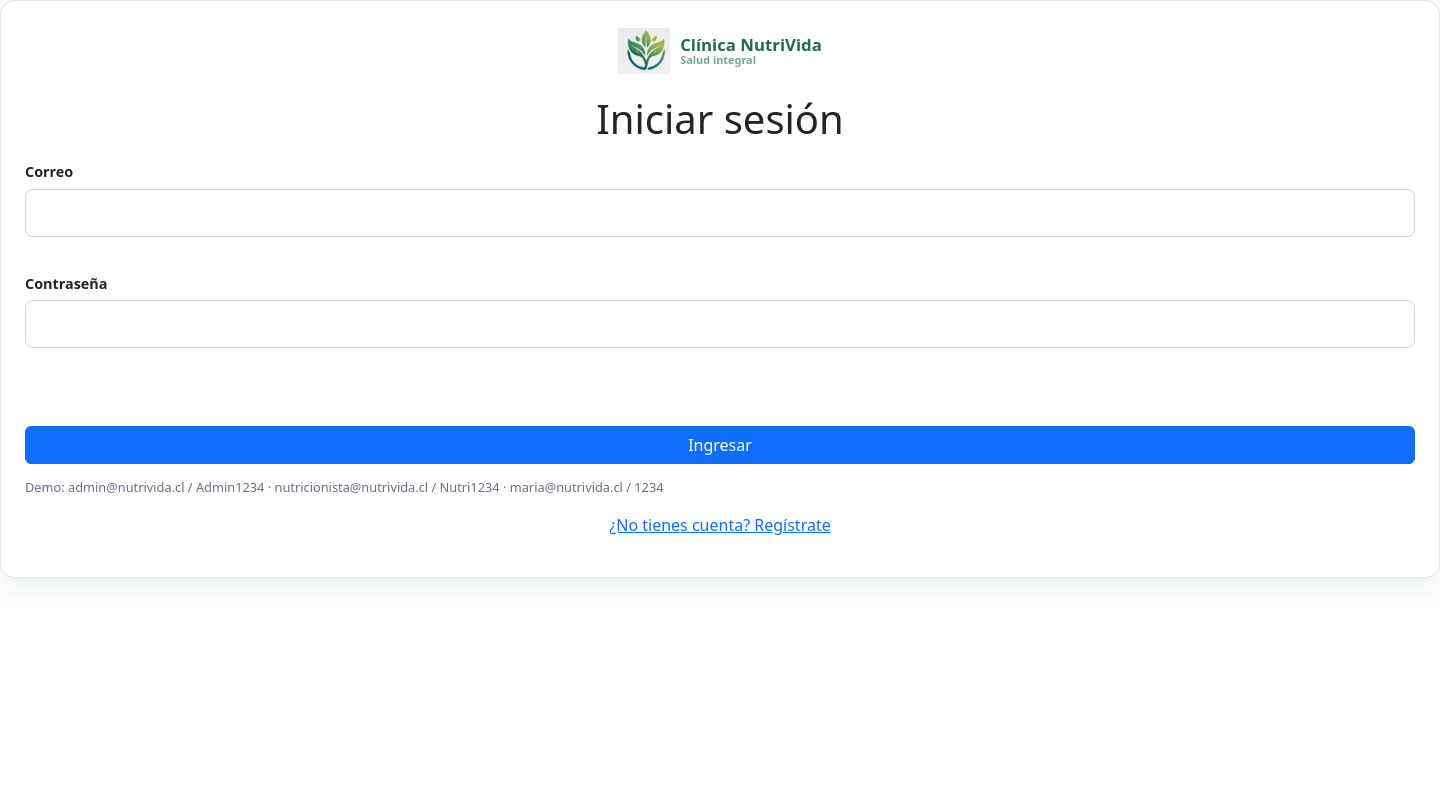
Test: FormLogin › muestra error general para credenciales incorrectas
In the field: (720, 213) [25,189,1415,237], type "admin@nutrivida.cl"
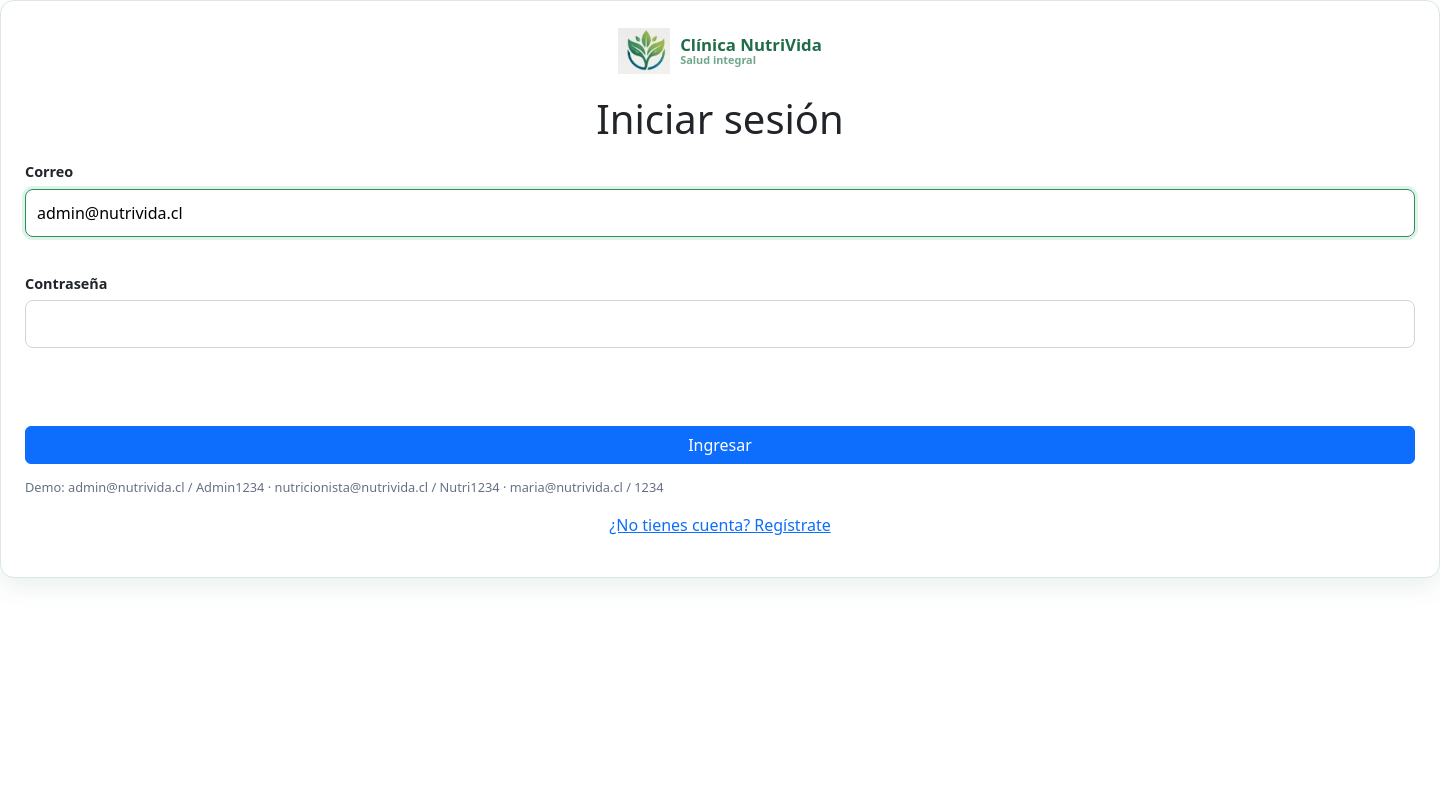
In the password field labelled "Contraseña": (720, 324) [25,300,1415,348], type "mala"
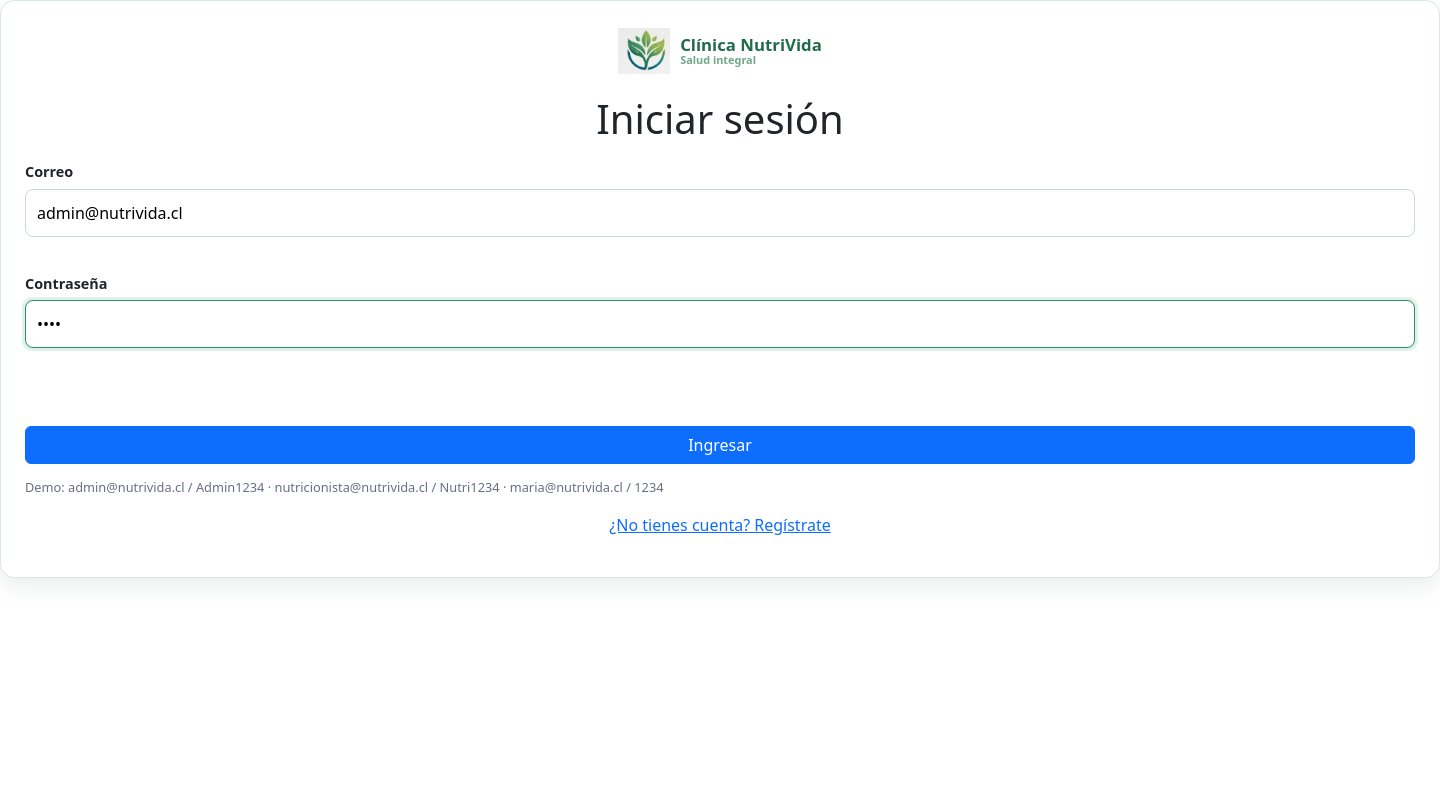
Click the button "Ingresar": click(720, 445) [25,426,1415,464]
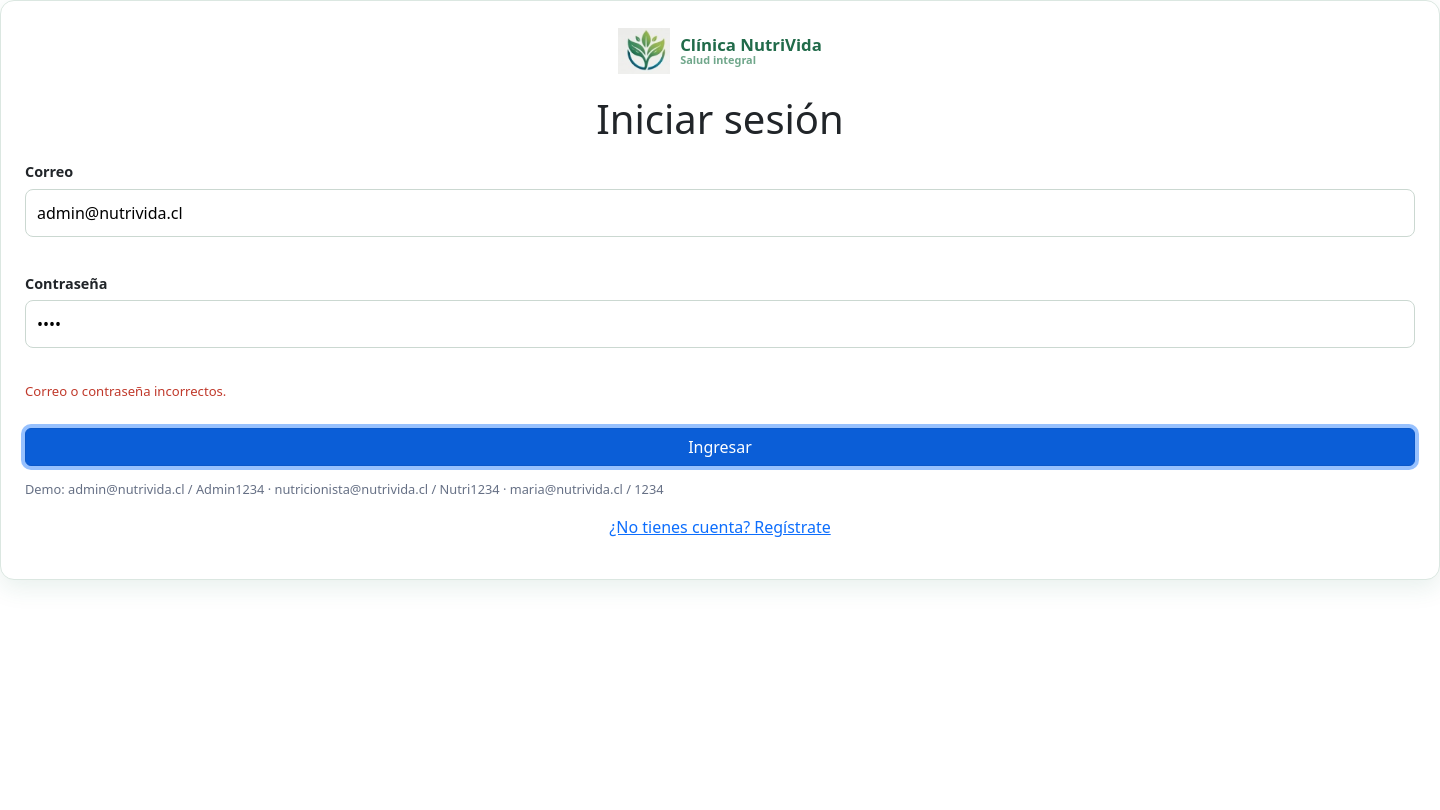
Expected: the text "Correo o contraseña incorrectos." is shown, [25,382,226,400]
